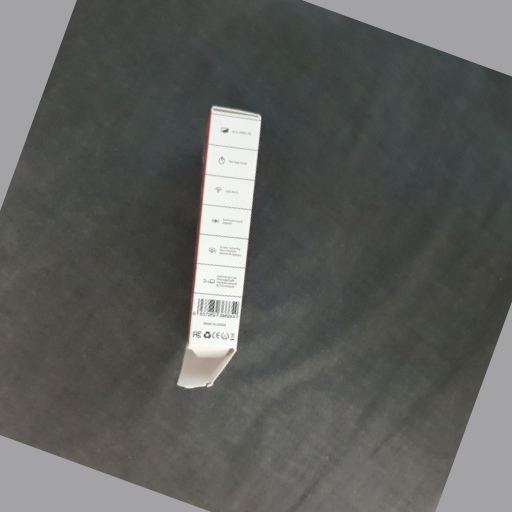Paper_0: (171, 100, 267, 396)
